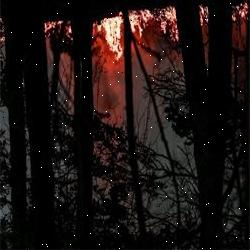fire: (88, 0, 250, 73)
